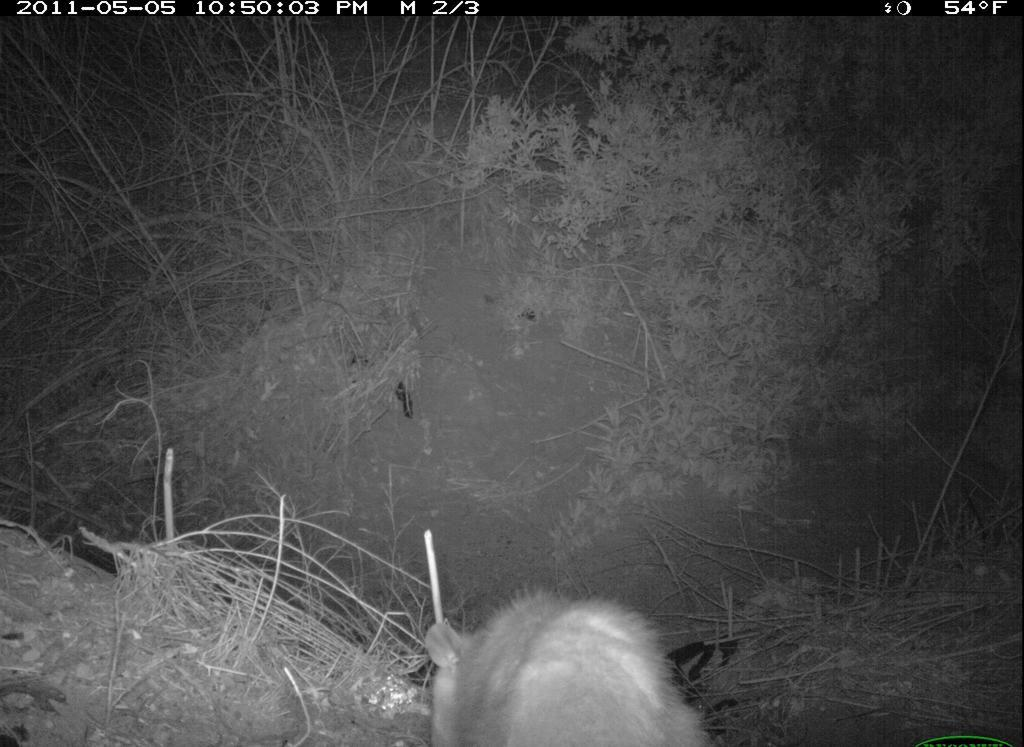opossum: (409, 577, 722, 747)
